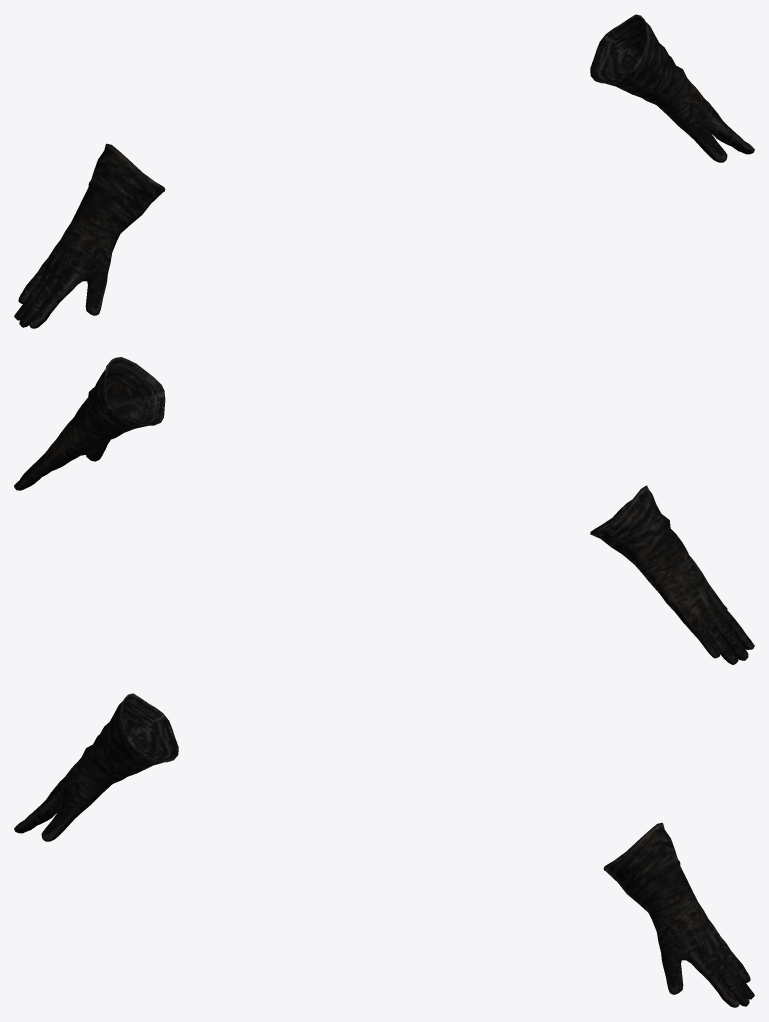
Rendered from G_Preceptor.glb.
3 views of the same model, one above another, from view 1: azimuth 30°, elevation 25°; view 2: azimuth 150°, elevation 25°; view 3: azimuth 330°, elevation 25° (orthographic).
Parts seen in each view (by area): view 1: Leather|P[AM_M_1430]_Leather.matxml|mesh0; view 2: Leather|P[AM_M_1430]_Leather.matxml|mesh0; view 3: Leather|P[AM_M_1430]_Leather.matxml|mesh0.
Part boxes in pixels (left/top/right/bottom): Leather|P[AM_M_1430]_Leather.matxml|mesh0: left=14, top=14, right=754, bottom=328; Leather|P[AM_M_1430]_Leather.matxml|mesh0: left=14, top=357, right=754, bottom=664; Leather|P[AM_M_1430]_Leather.matxml|mesh0: left=14, top=693, right=754, bottom=1007.
Size of the model in its own units: 1.38 by 0.2774 by 0.1738.
1 material, 1 textured.
